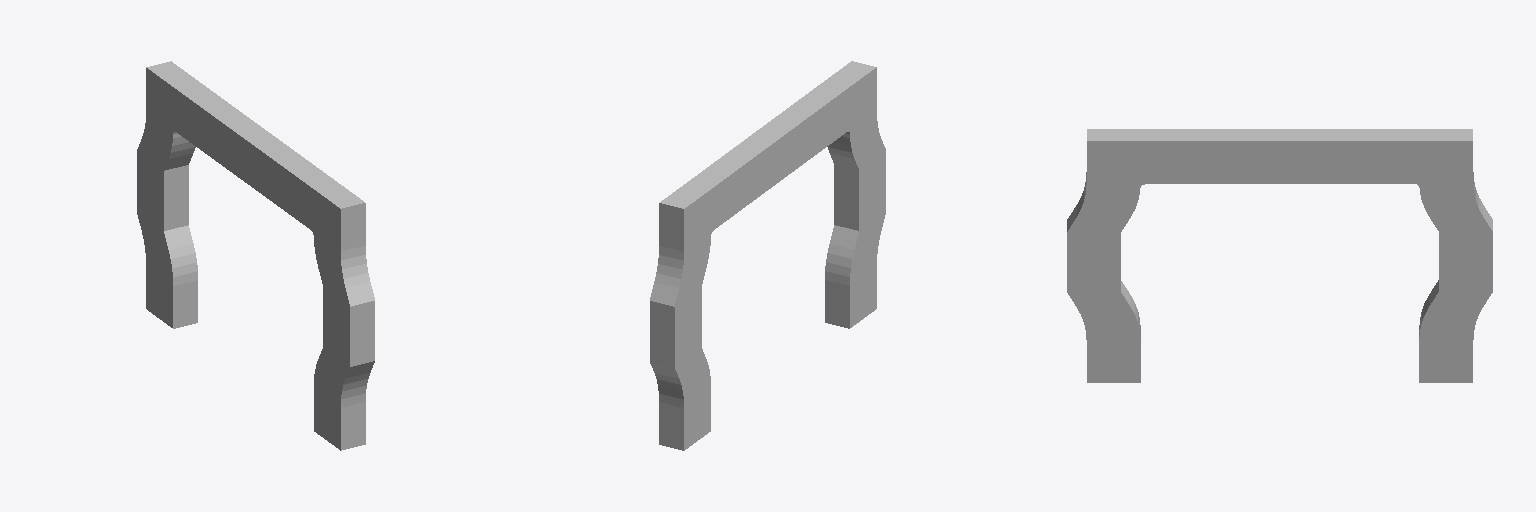
Rendered from separador_1.obj.
3 renders of one model, left to right at view 1: azimuth 30°, elevation 25°; view 2: azimuth 150°, elevation 25°; view 3: azimuth 270°, elevation 25°, orthographic.
Parts seen in each view (by area): view 1: pCube24; view 2: pCube24; view 3: pCube24.
Boxes of the visible parts, <box> form: pCube24: <box>137,61,374,450</box>; pCube24: <box>650,61,885,450</box>; pCube24: <box>1067,129,1492,382</box>.
Bounding box in the file's own units: 55.28 × 493 × 786.